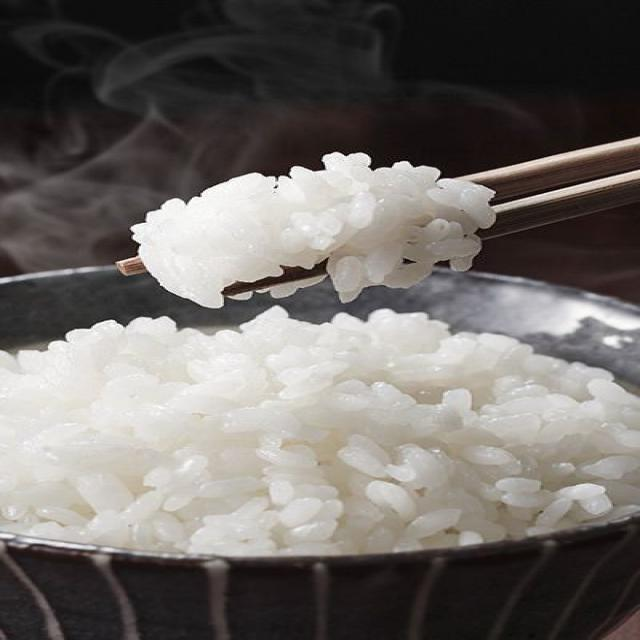rice: (0, 308, 639, 555), (133, 153, 494, 307)
